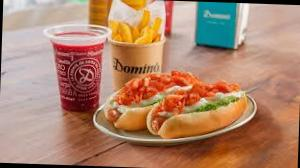Completos: (104, 61, 196, 132), (149, 77, 243, 141)
